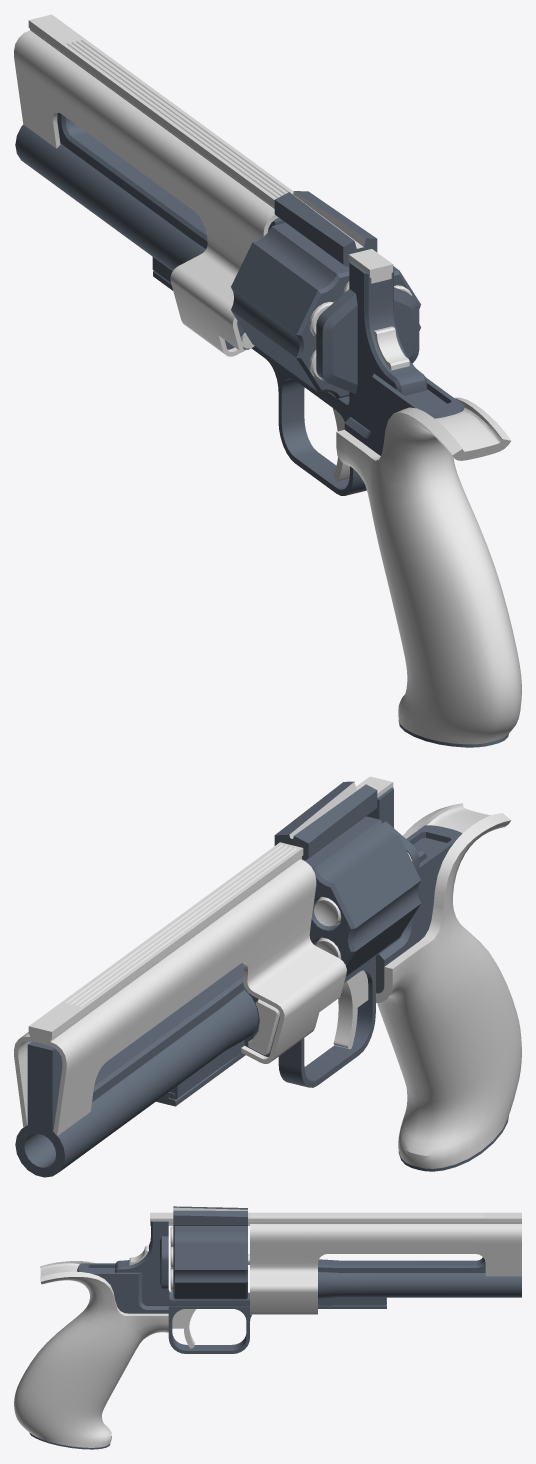
Rendered from bigiron (1).fbx.
The picture shows the model from 3 angles, top to bottom: view 1: azimuth 30°, elevation 25°; view 2: azimuth 150°, elevation 25°; view 3: azimuth 270°, elevation 25°; orthographic projection. The views are drawn at different scales.
Parts seen in each view (by area): view 1: barrel cal .44 6in; view 2: barrel cal .44 6in; view 3: barrel cal .44 6in.
Part boxes in pixels (left/top/right/bottom): barrel cal .44 6in: left=14, top=14, right=521, bottom=747; barrel cal .44 6in: left=14, top=776, right=521, bottom=1177; barrel cal .44 6in: left=14, top=1206, right=521, bottom=1449.
Size of the model in its own units: 4.4 by 14.46 by 28.47.
